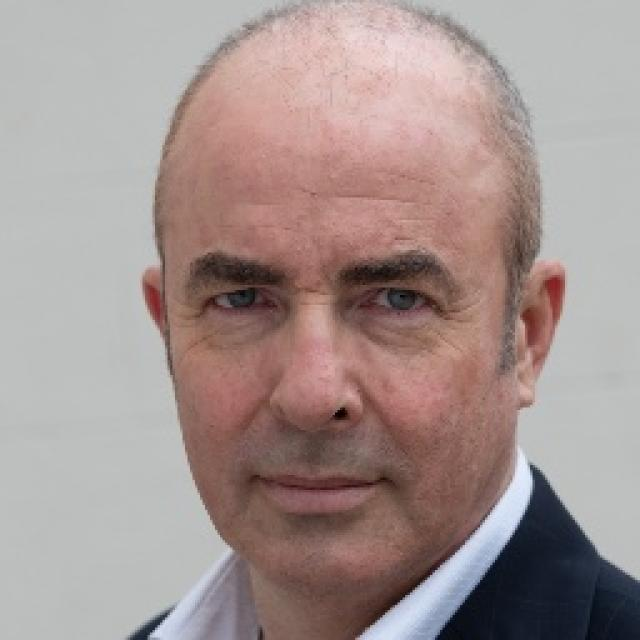earlobe: (514, 364, 538, 408)
eye: (357, 285, 438, 315), (204, 286, 280, 314)
nose: (259, 407, 363, 470)
wholeear: (514, 260, 566, 408)
